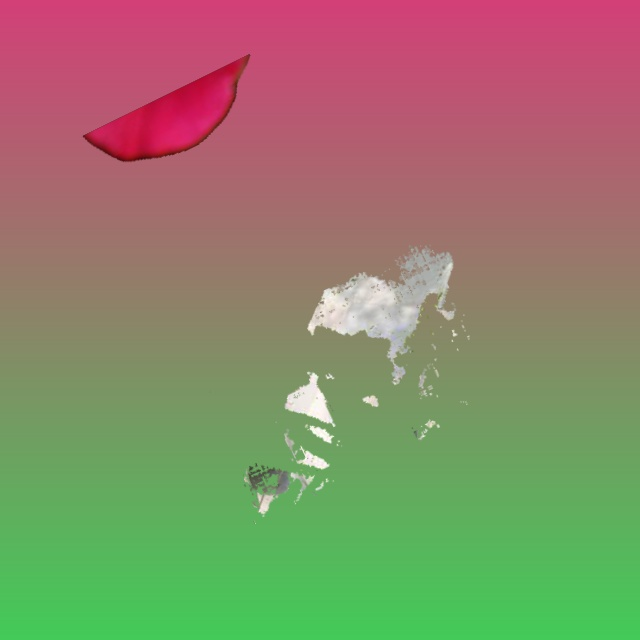orchid: (244, 246, 468, 523)
petunia: (83, 54, 249, 161)
